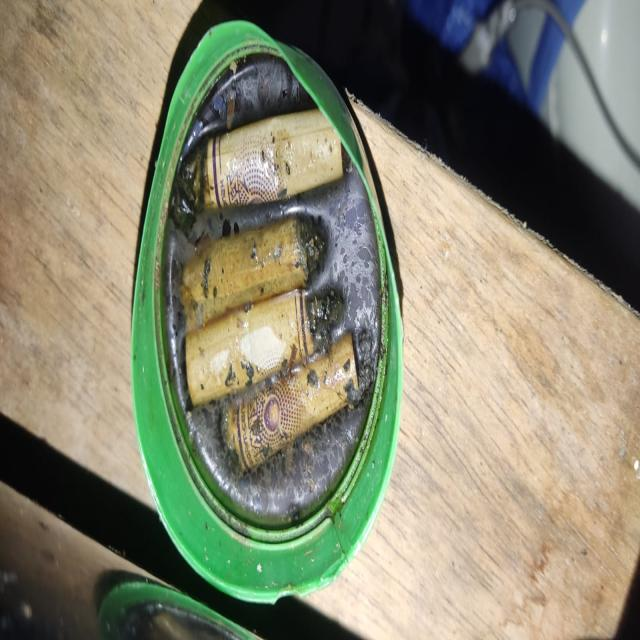b3: (175, 105, 373, 500)
